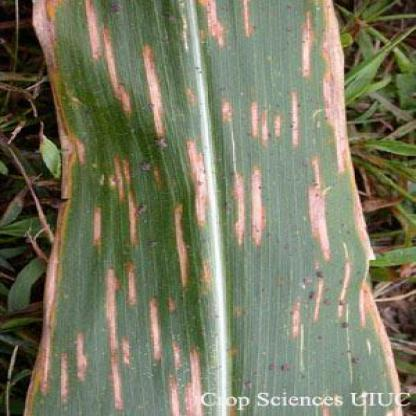Corn Gray leaf spot: (22, 3, 404, 415)
